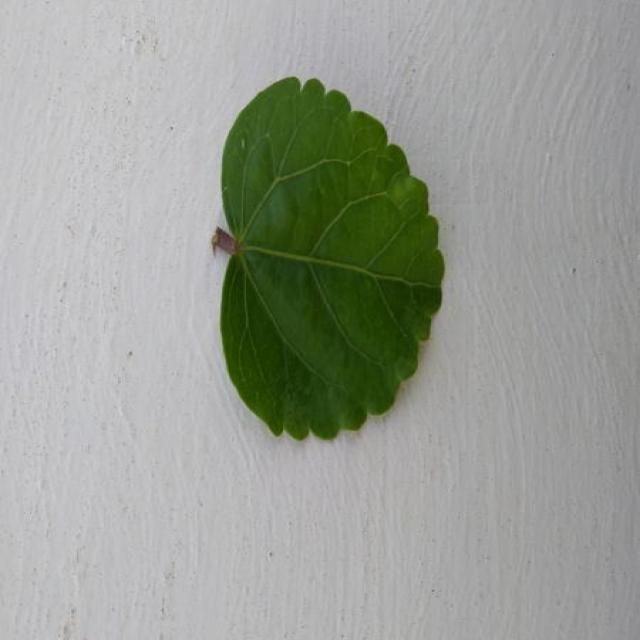Hibiscus: (213, 78, 443, 439)
